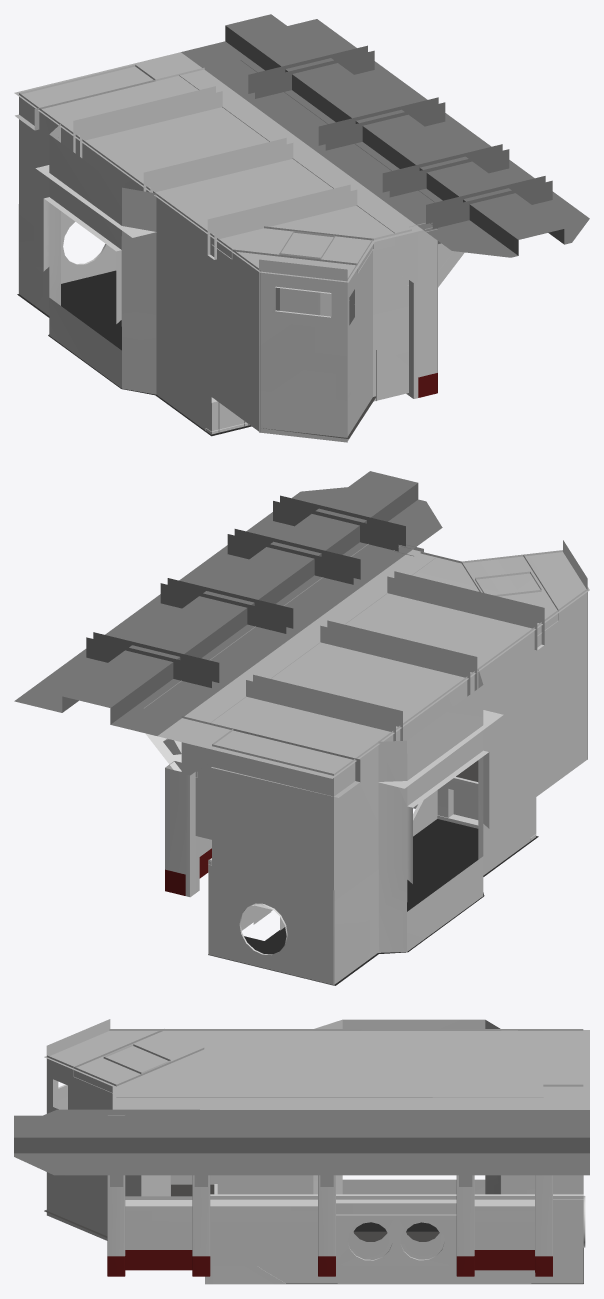
File: SM_H_Building_Tide_Jail_C_04g_ATLAS.fbx
3 renders of one model, top to bottom at view 1: azimuth 30°, elevation 25°; view 2: azimuth 150°, elevation 25°; view 3: azimuth 270°, elevation 25°, orthographic. The views are drawn at different scales.
Visible parts, largest first — view 1: SM_H_Building_Tide_Jail_C_04g_ATLAS; view 2: SM_H_Building_Tide_Jail_C_04g_ATLAS; view 3: SM_H_Building_Tide_Jail_C_04g_ATLAS.
Boxes of the visible parts, bbox=[...] form: SM_H_Building_Tide_Jail_C_04g_ATLAS: bbox=[14, 14, 589, 442]; SM_H_Building_Tide_Jail_C_04g_ATLAS: bbox=[14, 471, 589, 985]; SM_H_Building_Tide_Jail_C_04g_ATLAS: bbox=[14, 1019, 589, 1284].
Size of the model in its own units: 3154 by 4900 by 2020.
